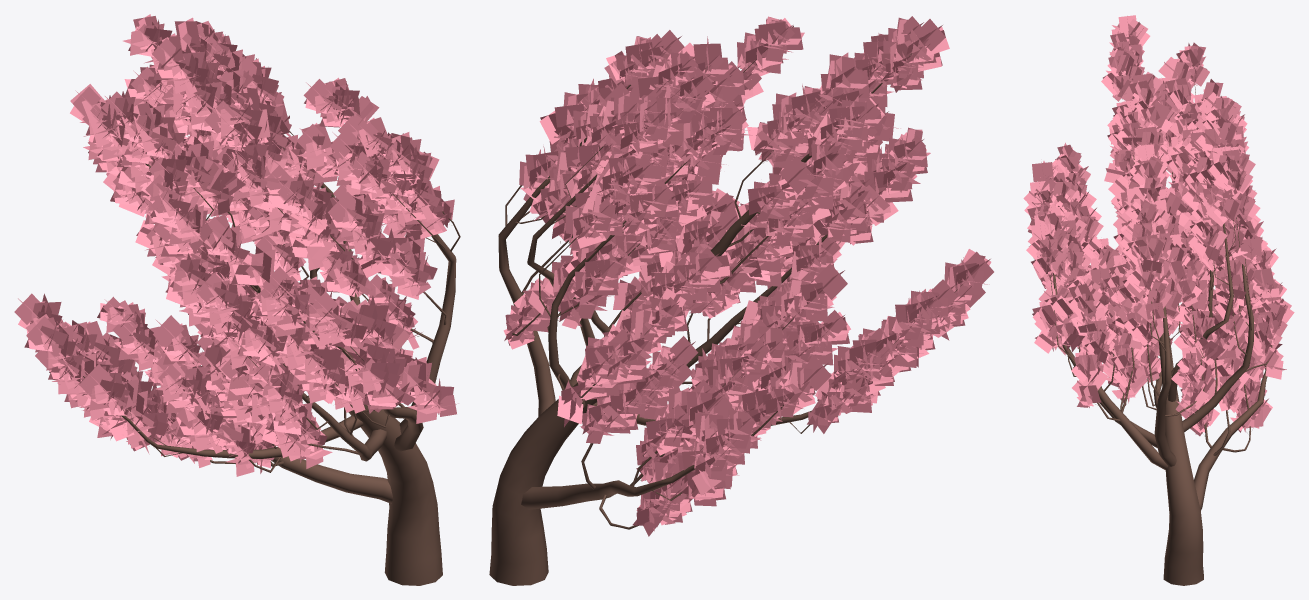
Rendered from webnest-sakura.glb.
3 views of the same model, side by side, from view 1: azimuth 30°, elevation 25°; view 2: azimuth 150°, elevation 25°; view 3: azimuth 270°, elevation 25° (orthographic). The views are drawn at different scales.
Visible parts, largest first — view 1: WebNest Sakura Canopy — baked from MIT-licensed EZ Tree geom; view 2: WebNest Sakura Canopy — baked from MIT-licensed EZ Tree geom; view 3: WebNest Sakura Canopy — baked from MIT-licensed EZ Tree geom.
Boxes of the visible parts, x1,y1,x2,y2 form: WebNest Sakura Canopy — baked from MIT-licensed EZ Tree geom: [14, 14, 460, 585]; WebNest Sakura Canopy — baked from MIT-licensed EZ Tree geom: [489, 16, 993, 585]; WebNest Sakura Canopy — baked from MIT-licensed EZ Tree geom: [1023, 15, 1294, 585].
Bounding box in the file's own units: 19.52 × 25.06 × 13.92.
